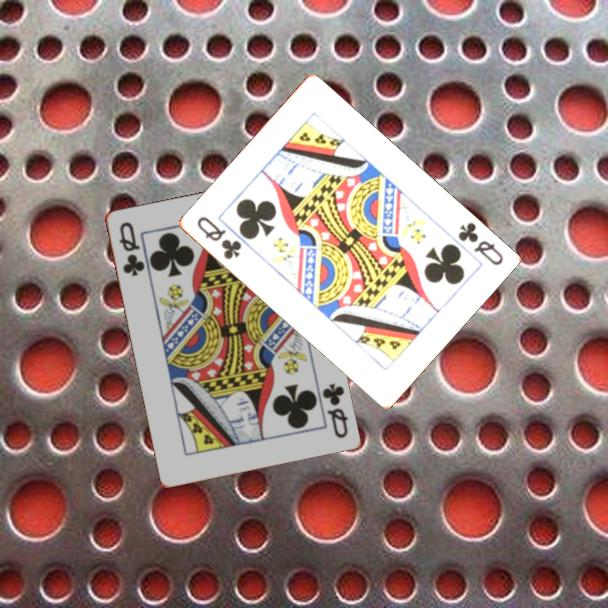c12: (193, 213, 244, 263), (454, 219, 506, 268), (115, 218, 147, 279), (318, 380, 350, 441)
